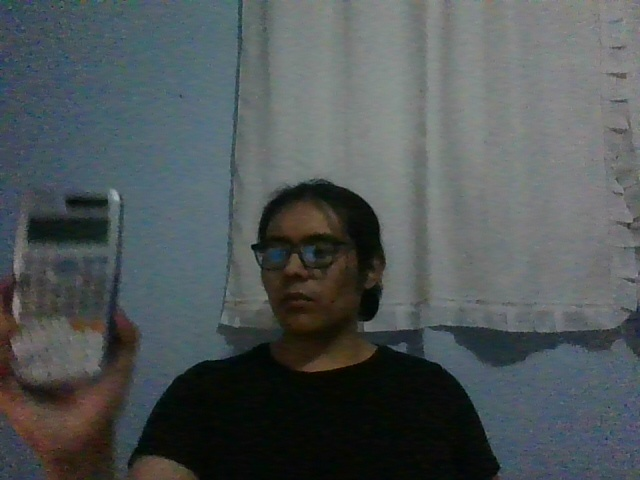calculadora: (11, 187, 123, 385)
